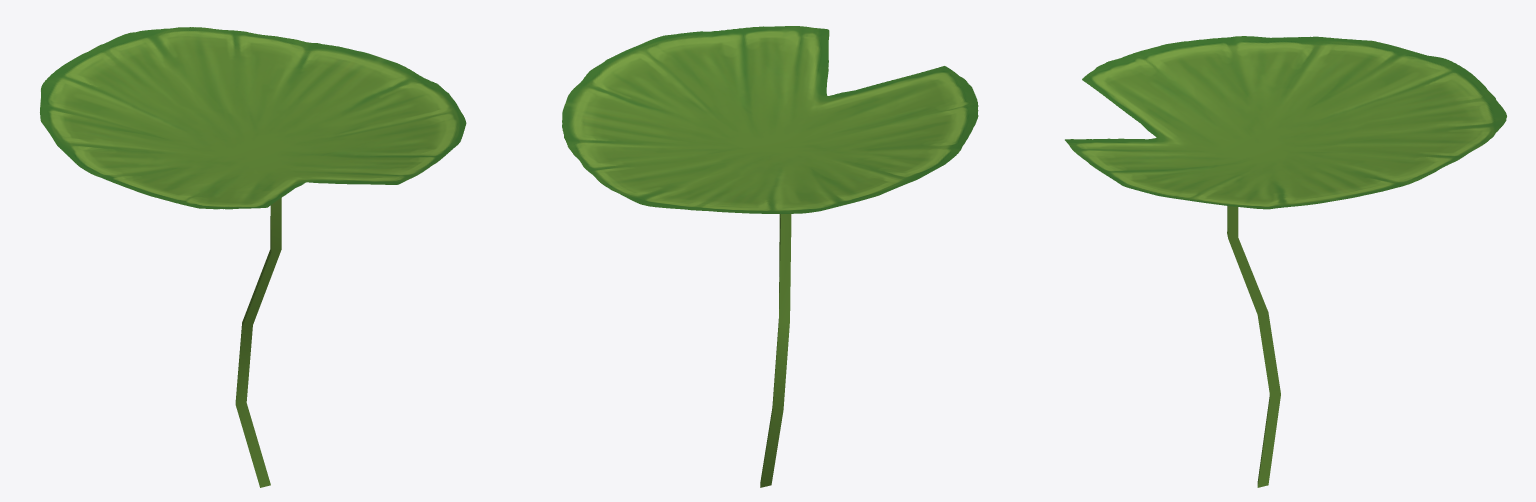
File: Water Lily #2.fbx
3 views of the same model, side by side, from view 1: azimuth 30°, elevation 25°; view 2: azimuth 150°, elevation 25°; view 3: azimuth 270°, elevation 25° (orthographic). The views are drawn at different scales.
Parts seen in each view (by area): view 1: Water Lily #2; view 2: Water Lily #2; view 3: Water Lily #2.
Part boxes in pixels (x1,y1,x2,y2): Water Lily #2: [40, 27, 466, 487]; Water Lily #2: [562, 26, 978, 487]; Water Lily #2: [1065, 36, 1506, 487].
Bounding box in the file's own units: 40.54 × 33.39 × 40.54.
1 material, 1 textured.
